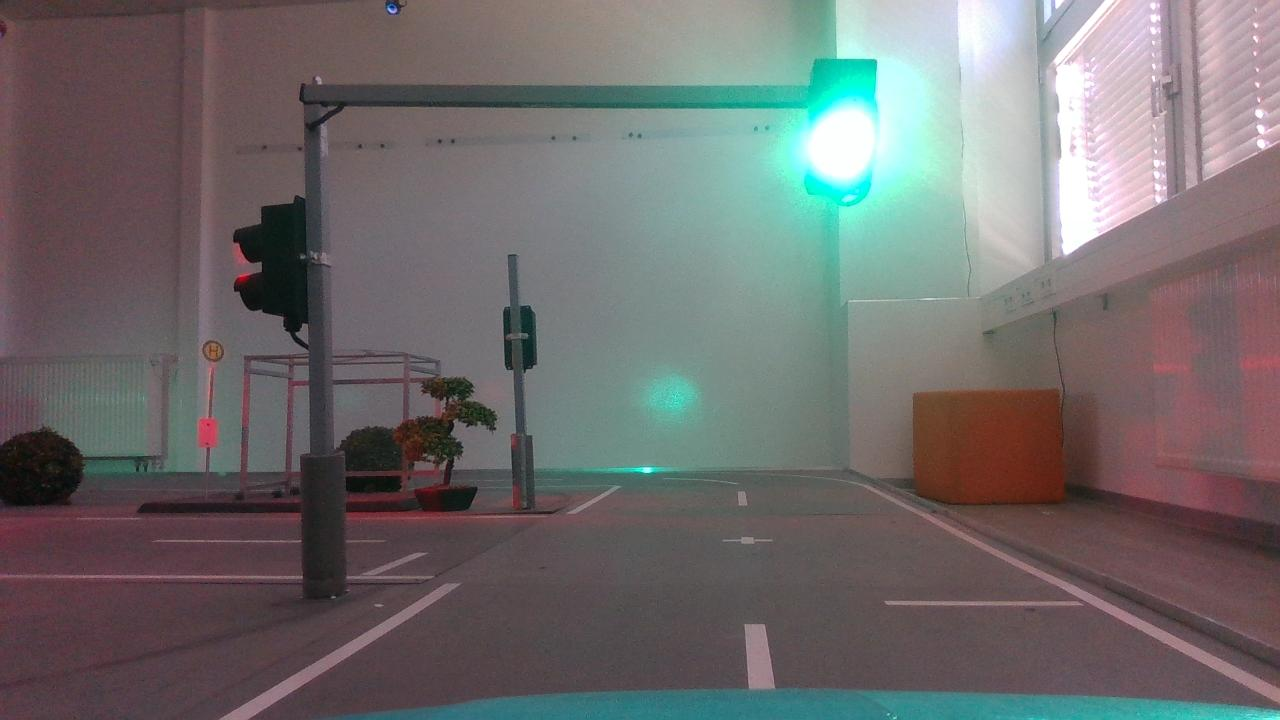traffic_light_green: (795, 47, 886, 220)
